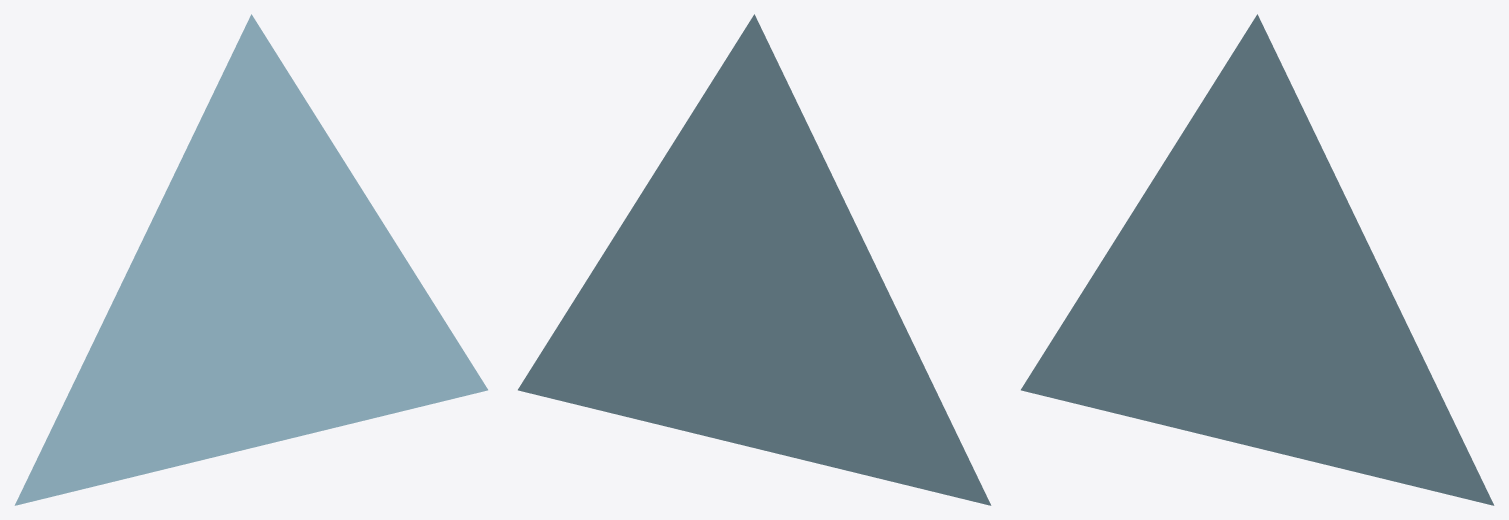
3 views of the same model, side by side, from view 1: azimuth 30°, elevation 25°; view 2: azimuth 150°, elevation 25°; view 3: azimuth 330°, elevation 25° (orthographic).
Parts seen in each view (by area): view 1: render-batch-0; view 2: render-batch-0; view 3: render-batch-0.
Boxes of the visible parts, x1,y1,x2,y2 form: render-batch-0: (14,14,487,505); render-batch-0: (518,14,991,505); render-batch-0: (1021,14,1494,505).
Bounding box in the file's own units: 1.6 × 1.4 × 0.
